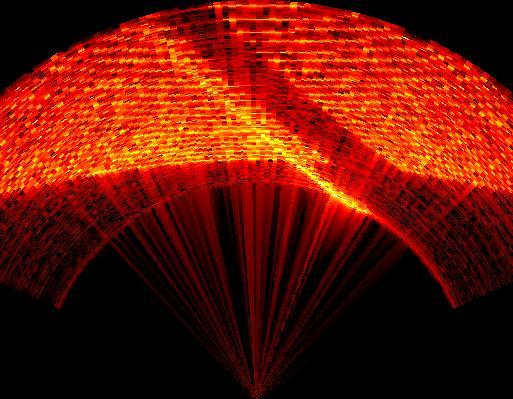pipe: (137, 8, 404, 216)
